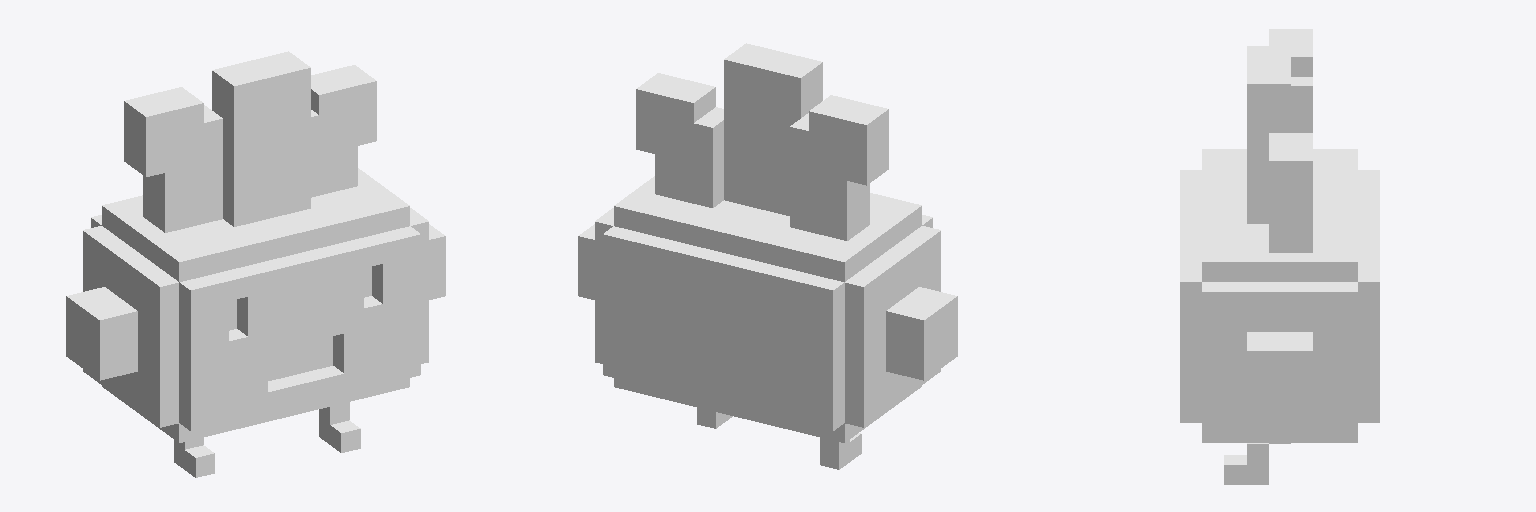
File: Voxels-16.obj
3 views of the same model, side by side, from view 1: azimuth 30°, elevation 25°; view 2: azimuth 150°, elevation 25°; view 3: azimuth 270°, elevation 25° (orthographic).
Parts seen in each view (by area): view 1: Voxels-12; view 2: Voxels-12; view 3: Voxels-12.
Boxes of the visible parts, <box> form: Voxels-12: <box>66,51,445,477</box>; Voxels-12: <box>578,43,957,469</box>; Voxels-12: <box>1180,29,1379,484</box>.
Size of the model in its own units: 18 by 19 by 9.